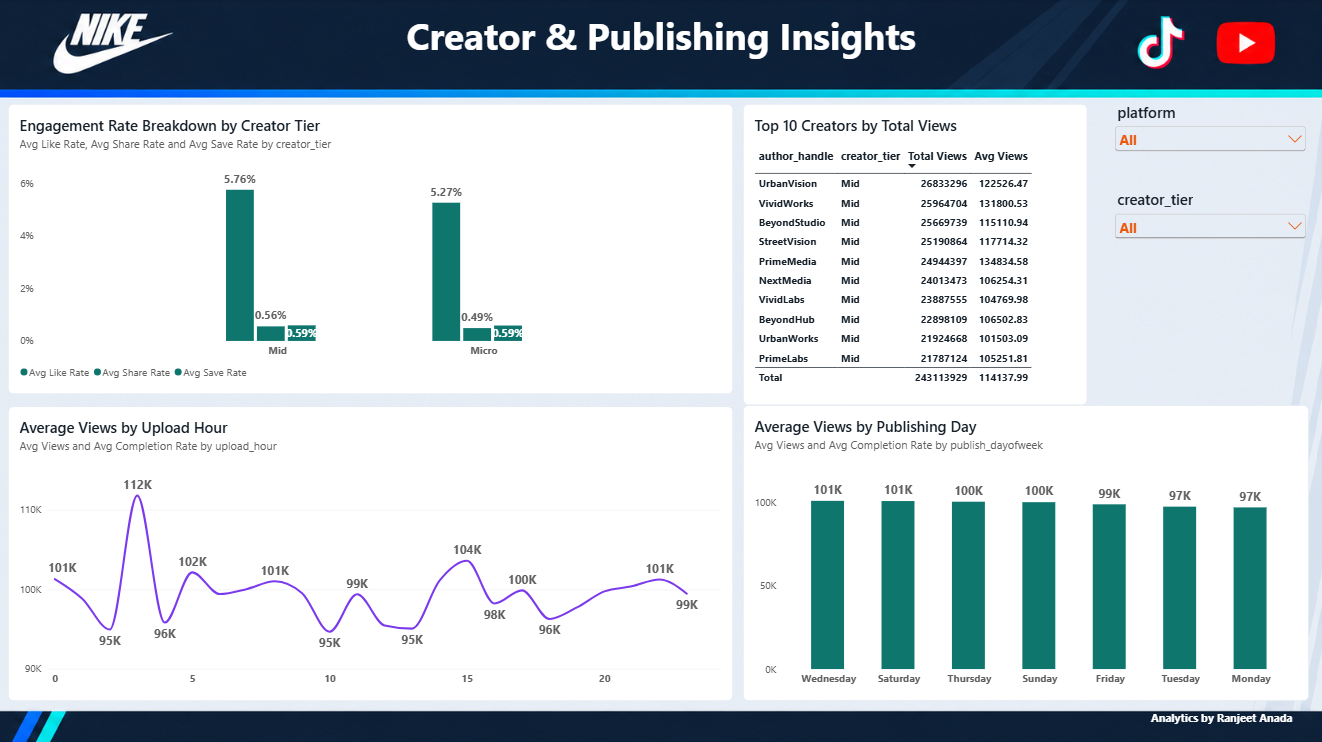

The dashboard page shown, as its layout file describes it:
{"tool":"powerbi","page":{"name":"Creator Insights","canvas":[1920,1080],"ordinal":2},"visuals":[{"type":"slicer","fields":{"Values":["Nike_Videos.platform"]},"box":[1611.7,148.2,286.1,76.2],"z":0},{"type":"slicer","fields":{"Values":["Nike_Videos.creator_tier"]},"box":[1611.7,275.8,286,76.2],"z":1000},{"type":"tableEx","title":"Top 10 Creators by Total Views","fields":{"Values":["Nike_Videos.author_handle","Nike_Videos.creator_tier","Nike_Measures.Total Views","Nike_Measures.Avg Views"]},"box":[1078.6,152.3,498.1,436.4],"z":2000},{"type":"lineChart","title":"Average Views by Upload Hour","fields":{"Category":["Nike_Videos.upload_hour"],"Y":["Nike_Measures.Avg Views"]},"box":[14.4,590.7,1049.7,426.1],"z":3000},{"type":"clusteredColumnChart","title":"Average Views by Publishing Day","fields":{"Category":["Nike_Videos.publish_dayofweek"],"Y":["Nike_Measures.Avg Views"]},"box":[1078.6,588.7,819.2,428.1],"z":4000},{"type":"clusteredColumnChart","title":"Engagement Rate Breakdown by Creator Tier","fields":{"Category":["Nike_Videos.creator_tier"],"Y":["Nike_Measures.Avg Like Rate","Nike_Measures.Avg Share Rate","Nike_Measures.Avg Save Rate"]},"box":[14.4,152.3,1049.7,419.9],"z":5000},{"type":"textbox","box":[570.2,16.5,780.1,113.2],"z":5001},{"type":"textbox","box":[1644.6,1029.2,253.2,32.9],"z":5002}]}

Visuals, with their boxes in screenshot pixels (x1, y1, x2, y2), scaled from the page's 1920x1080 canvas onto the 1322x742 screenshot:
slicer - Nike_Videos.platform: (left=1110, top=102, right=1307, bottom=154)
slicer - Nike_Videos.creator_tier: (left=1110, top=189, right=1307, bottom=242)
"Top 10 Creators by Total Views" tableEx: (left=743, top=105, right=1086, bottom=404)
"Average Views by Upload Hour" lineChart: (left=10, top=406, right=733, bottom=699)
"Average Views by Publishing Day" clusteredColumnChart: (left=743, top=404, right=1307, bottom=699)
"Engagement Rate Breakdown by Creator Tier" clusteredColumnChart: (left=10, top=105, right=733, bottom=393)
textbox: (left=393, top=11, right=930, bottom=89)
textbox: (left=1132, top=707, right=1307, bottom=730)
